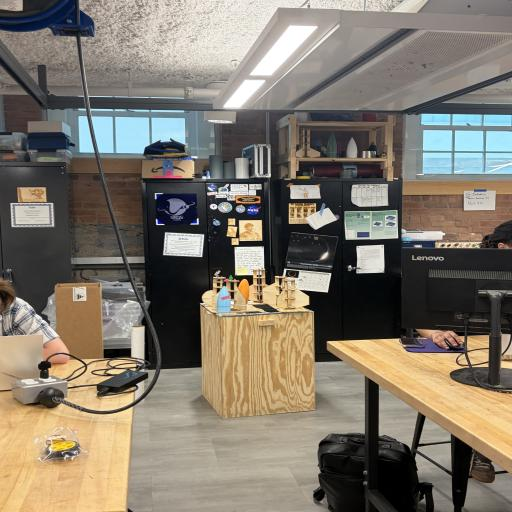Green-Lego: (226, 275, 234, 281)
